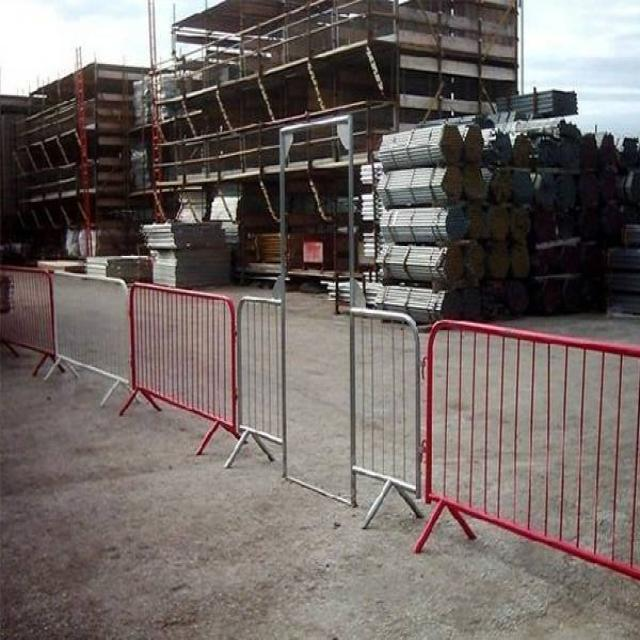cone: (0, 218, 640, 640)
